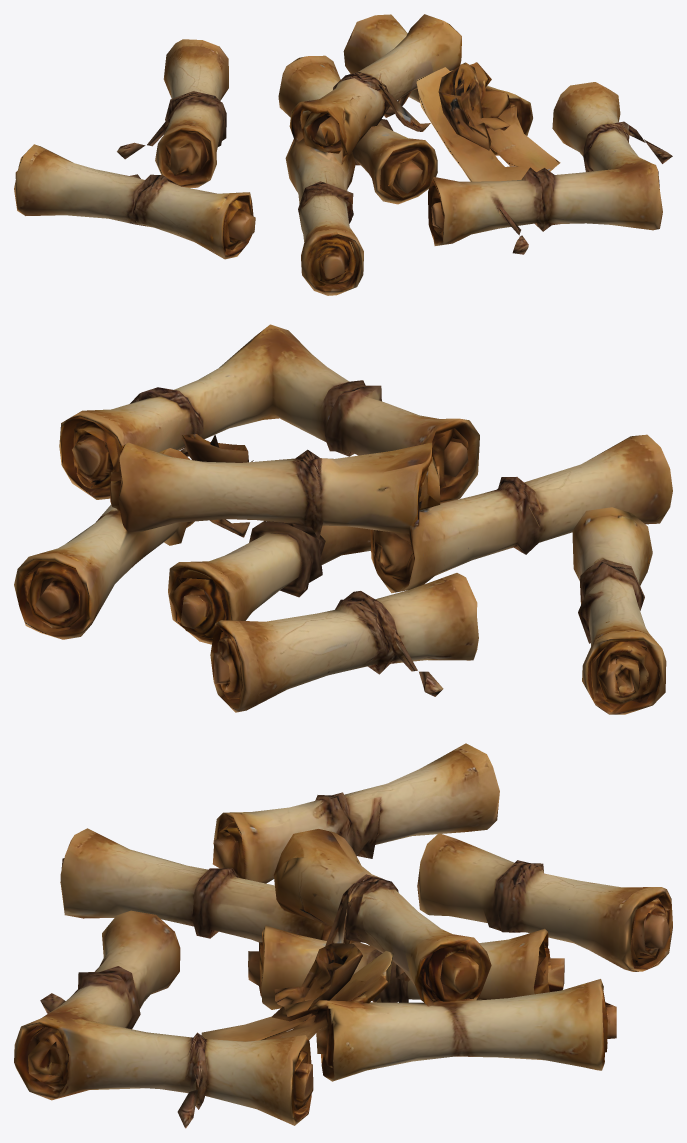
File: rolled+parchments+3d+model.obj
3 views of the same model, one above another, from view 1: azimuth 30°, elevation 25°; view 2: azimuth 150°, elevation 25°; view 3: azimuth 270°, elevation 25° (orthographic). The views are drawn at different scales.
Parts seen in each view (by area): view 1: tripo_node_a9ebc5a3-539e-4973-938c-86e984c92095; view 2: tripo_node_a9ebc5a3-539e-4973-938c-86e984c92095; view 3: tripo_node_a9ebc5a3-539e-4973-938c-86e984c92095.
Boxes of the visible parts, x1,y1,x2,y2 form: tripo_node_a9ebc5a3-539e-4973-938c-86e984c92095: (14,14,672,295); tripo_node_a9ebc5a3-539e-4973-938c-86e984c92095: (14,324,672,714); tripo_node_a9ebc5a3-539e-4973-938c-86e984c92095: (14,743,672,1128).
Bounding box in the file's own units: 0.9994 × 0.1841 × 0.8411.
1 material, 1 textured.
